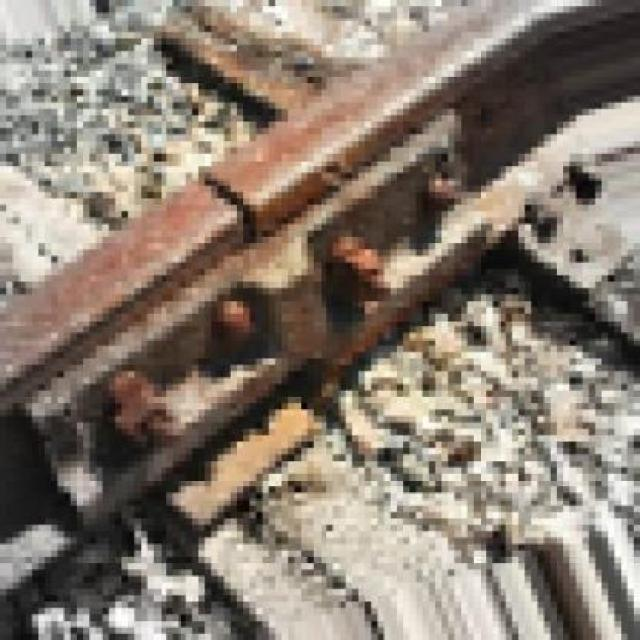defective: (0, 113, 638, 428)
